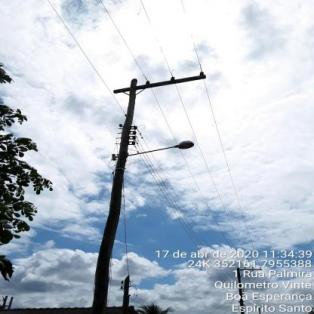Poste: (86, 75, 140, 314)
